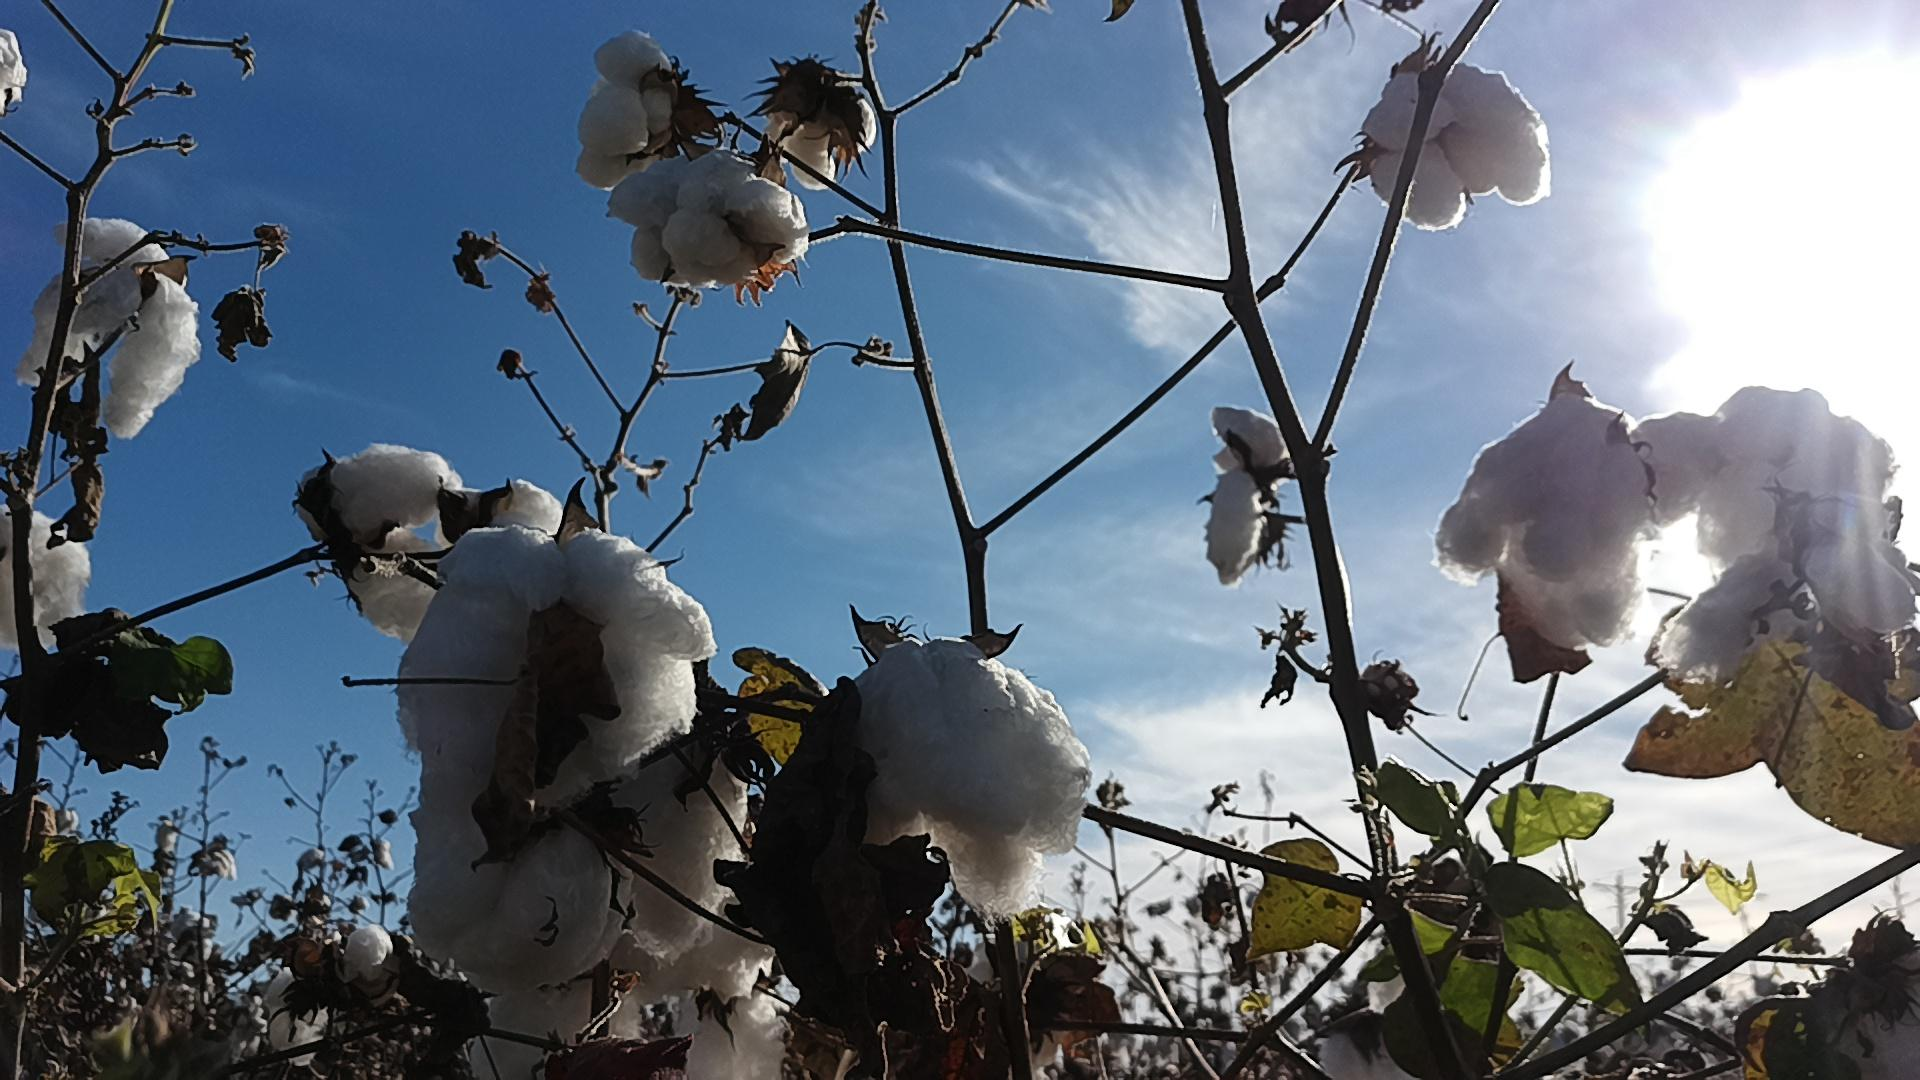cotton_ready: (398, 530, 711, 807), (1638, 382, 1917, 684), (407, 756, 741, 994), (861, 641, 1092, 911), (1437, 398, 1646, 649), (16, 214, 206, 436), (1367, 66, 1551, 231), (613, 909, 778, 1080), (612, 153, 810, 290), (316, 451, 460, 634), (576, 25, 670, 191), (1208, 406, 1286, 583), (1821, 945, 1920, 1080), (0, 506, 95, 646), (770, 80, 884, 194), (476, 981, 592, 1080), (1321, 1023, 1445, 1080), (481, 480, 568, 539), (0, 25, 28, 116)
